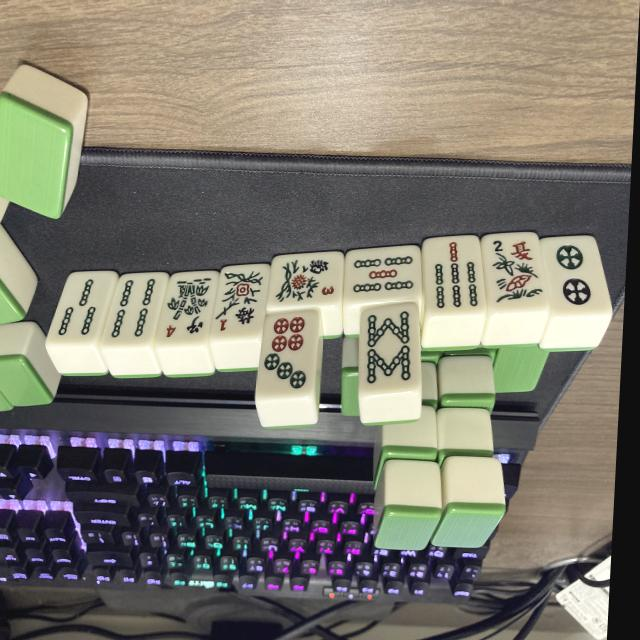f1: (210, 267, 268, 339)
f3: (270, 256, 347, 312)
f4: (160, 273, 217, 342)
ff2: (480, 235, 548, 312)
s3: (51, 274, 108, 344)
s4: (105, 277, 164, 346)
s5: (343, 248, 422, 306)
s7: (421, 238, 490, 316)
s8: (359, 305, 425, 392)
t2: (539, 237, 614, 317)
t7: (259, 312, 321, 399)
